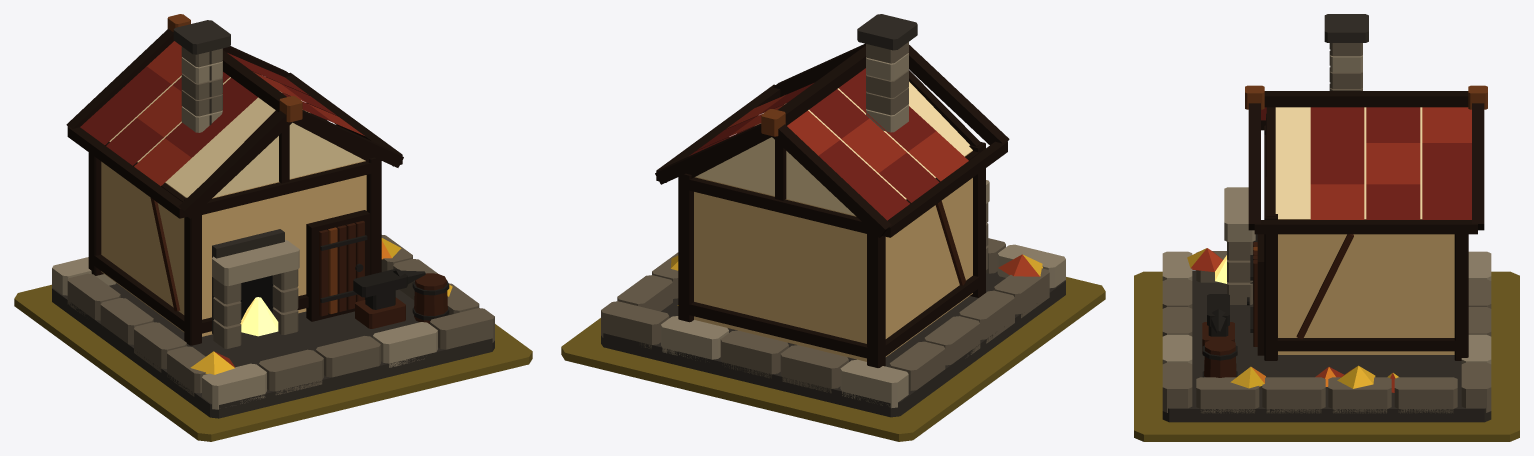
The model's file is forge_t1.glb.
3 renders of one model, left to right at view 1: azimuth 30°, elevation 25°; view 2: azimuth 150°, elevation 25°; view 3: azimuth 270°, elevation 25°, orthographic. The views are drawn at different scales.
Parts seen in each view (by area): view 1: MMR | forge | T01 Architecture.001, MMR | forge | Tier 01 Ground.001, MMR | forge | T01 Flame Glow.001, MMR | forge | T01 Autumn Dressing.001; view 2: MMR | forge | T01 Architecture.001, MMR | forge | Tier 01 Ground.001, MMR | forge | T01 Autumn Dressing.001; view 3: MMR | forge | T01 Architecture.001, MMR | forge | Tier 01 Ground.001, MMR | forge | T01 Autumn Dressing.001.
Boxes of the visible parts, x1=… form: MMR | forge | T01 Architecture.001: x1=52, y1=14, x2=494, y2=418; MMR | forge | Tier 01 Ground.001: x1=14, y1=284, x2=532, y2=441; MMR | forge | T01 Flame Glow.001: x1=240, y1=297, x2=278, y2=336; MMR | forge | T01 Autumn Dressing.001: x1=190, y1=238, x2=452, y2=374; MMR | forge | T01 Architecture.001: x1=601, y1=14, x2=1065, y2=417; MMR | forge | Tier 01 Ground.001: x1=561, y1=277, x2=1105, y2=441; MMR | forge | T01 Autumn Dressing.001: x1=670, y1=254, x2=1042, y2=305; MMR | forge | T01 Architecture.001: x1=1162, y1=14, x2=1491, y2=422; MMR | forge | Tier 01 Ground.001: x1=1134, y1=271, x2=1519, y2=441; MMR | forge | T01 Autumn Dressing.001: x1=1187, y1=248, x2=1398, y2=392.
Size of the model in its own units: 2.35 by 2.07 by 2.35.
2 materials, 1 textured.
